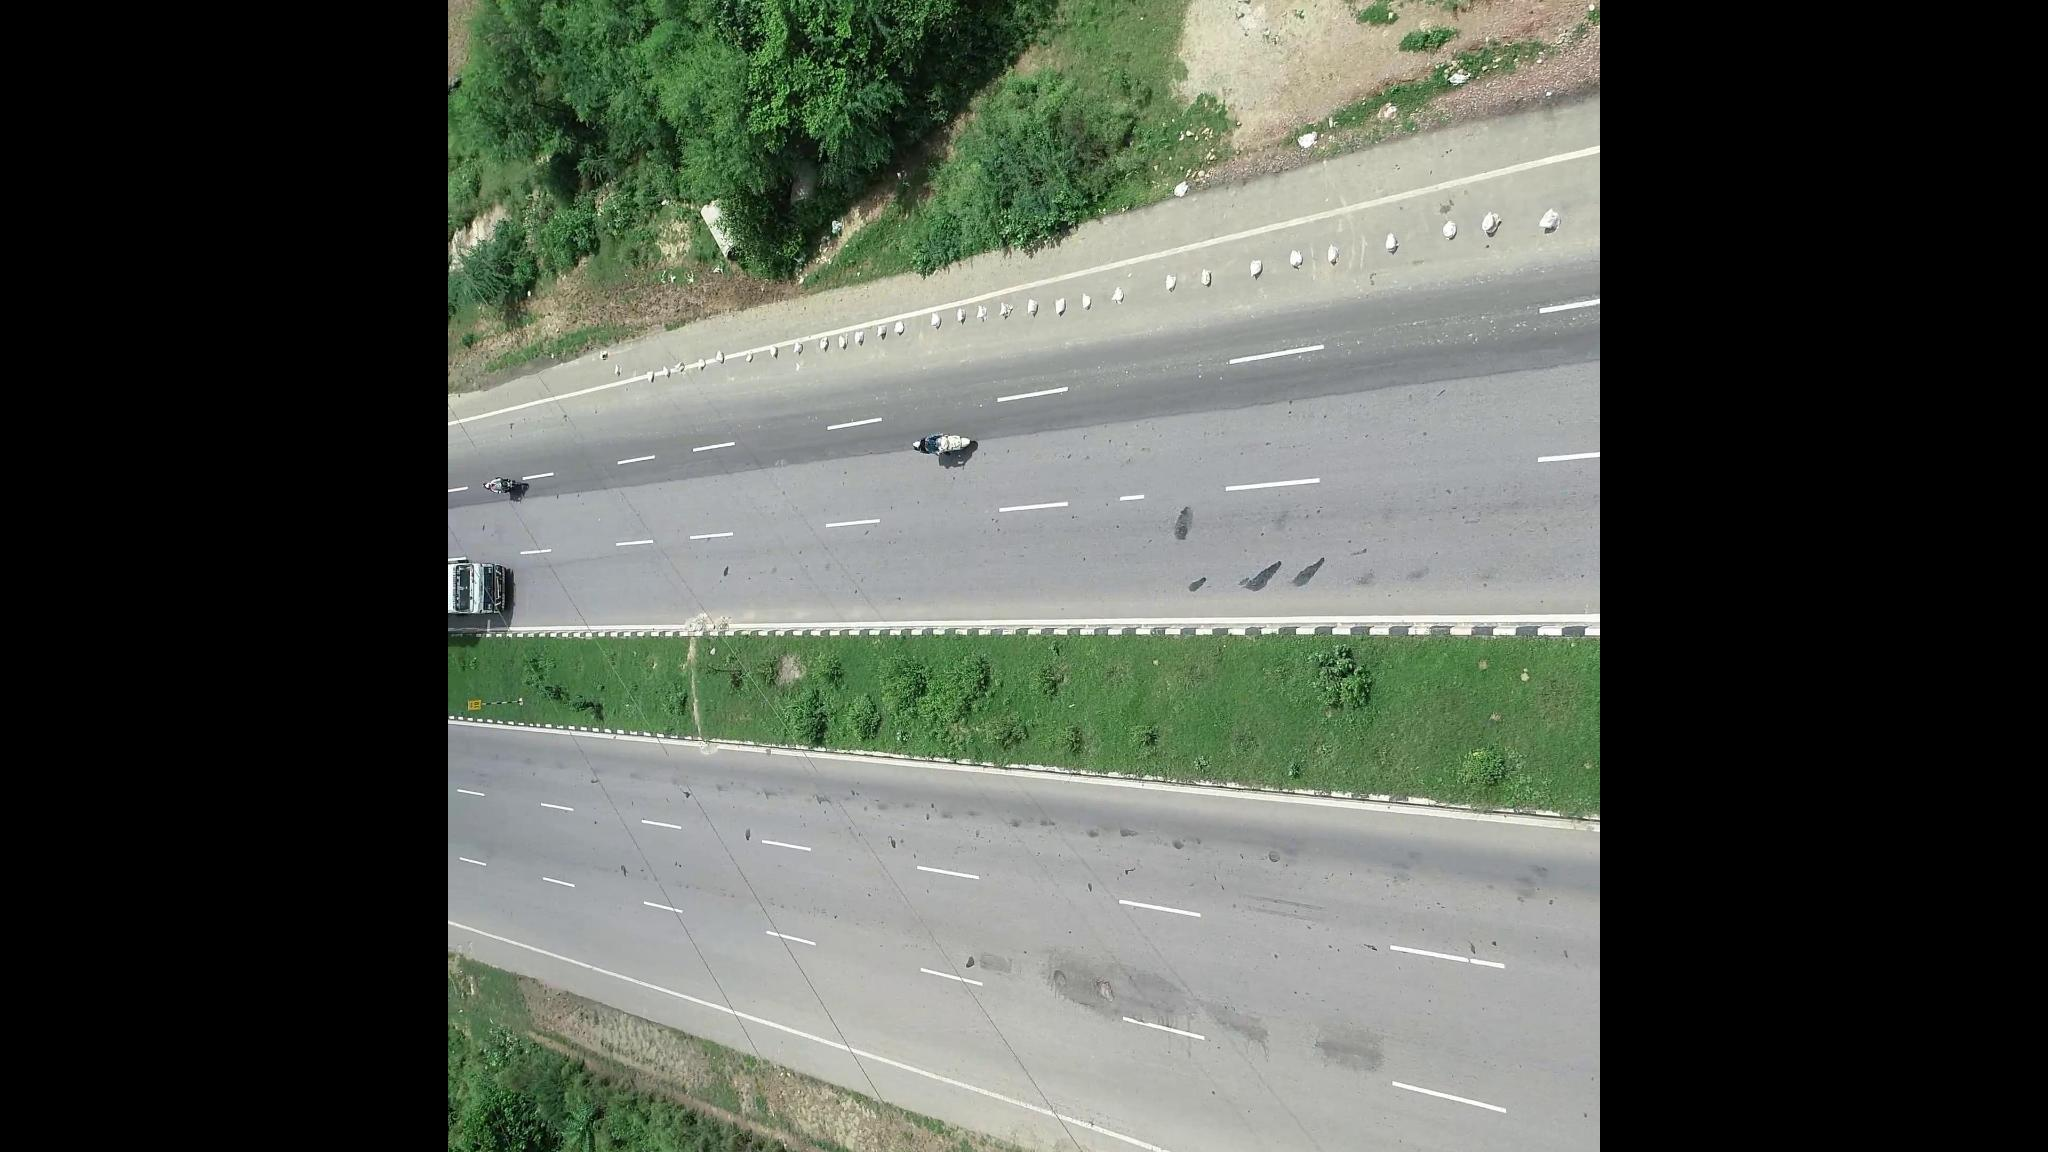Potholes: (1032, 938, 1141, 1030)
